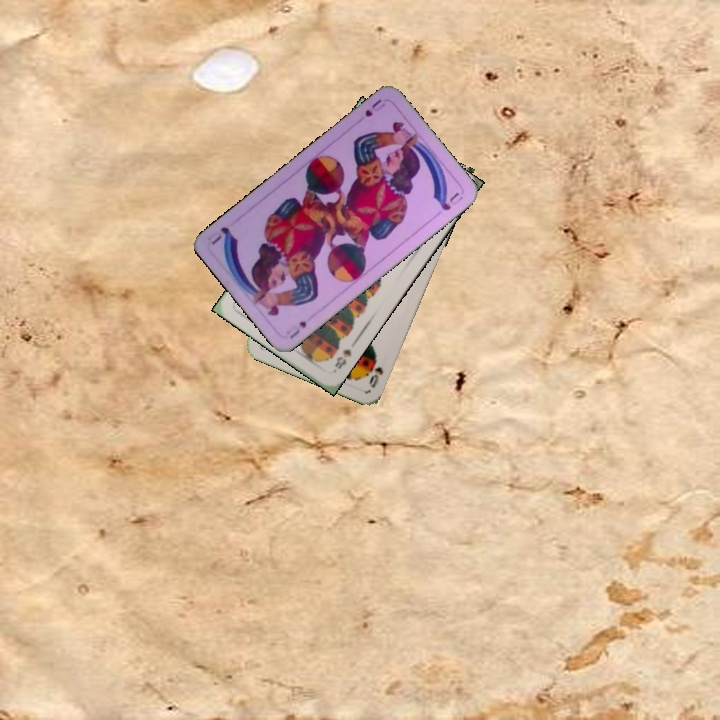S8: (331, 345, 354, 372)
SO: (365, 355, 386, 390)
SU: (361, 95, 388, 120), (286, 317, 309, 341)
